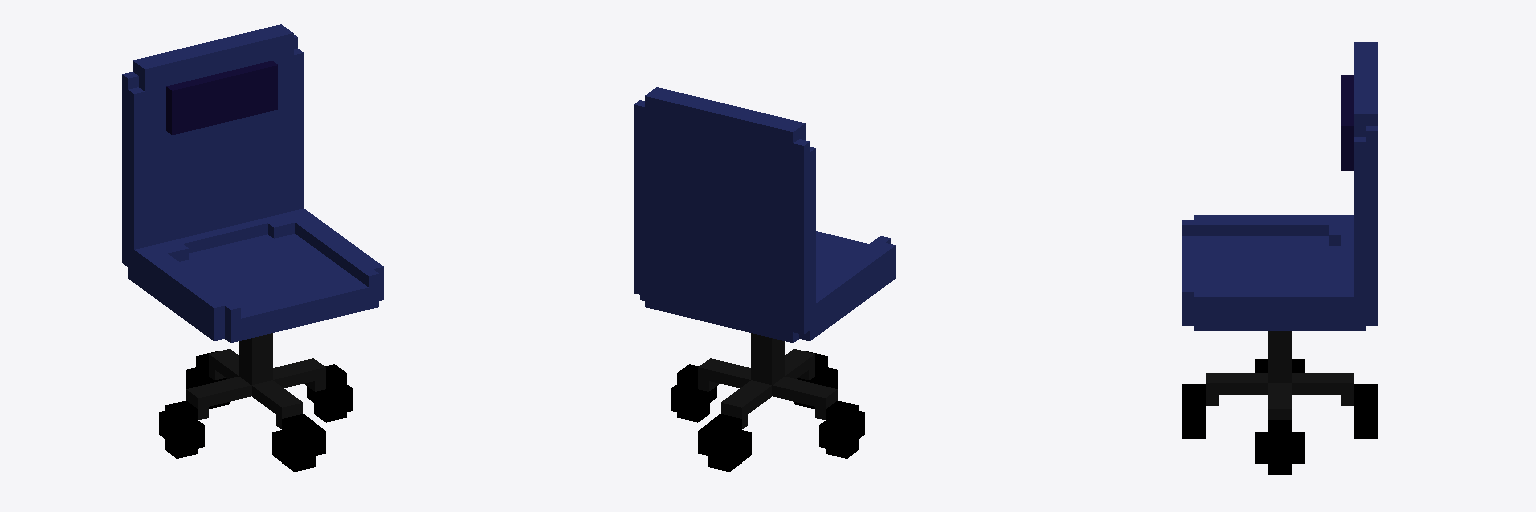
3 views of the same model, side by side, from view 1: azimuth 30°, elevation 25°; view 2: azimuth 150°, elevation 25°; view 3: azimuth 270°, elevation 25° (orthographic).
Parts seen in each view (by area): view 1: object 1; view 2: object 1; view 3: object 1.
Part boxes in pixels (x1,y1,x2,y2): object 1: (122,24,383,471); object 1: (634,87,895,471); object 1: (1182,42,1377,474).
Bounding box in the file's own units: 1.6 × 3.2 × 1.6.
1 materials, 1 textured.